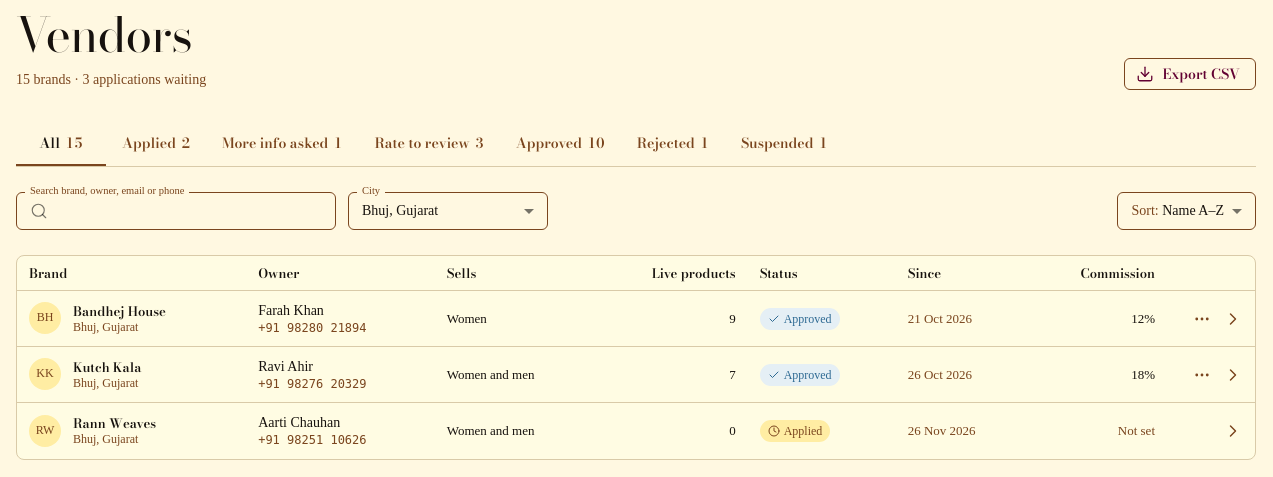
Test: A-08 Vendors › searches by owner after typing stops, and clears the search
Step 1. Type "aarti" into the field labelled "Search brand, owner, email or phone" → [196, 211], box [56, 192, 336, 230]
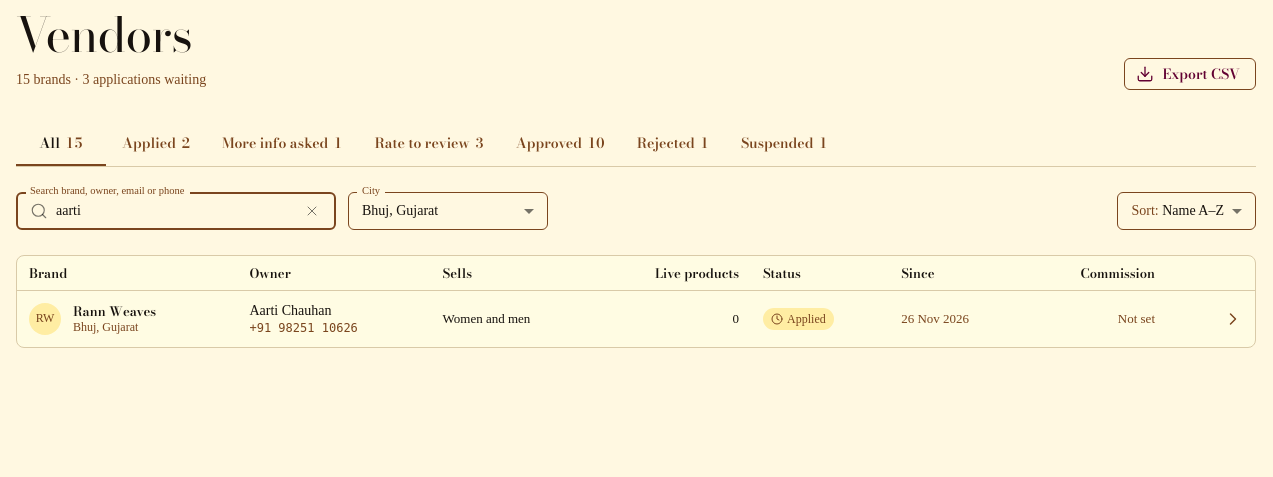
Step 2. Click the button named "Clear search" → [312, 211], box [299, 198, 325, 224]
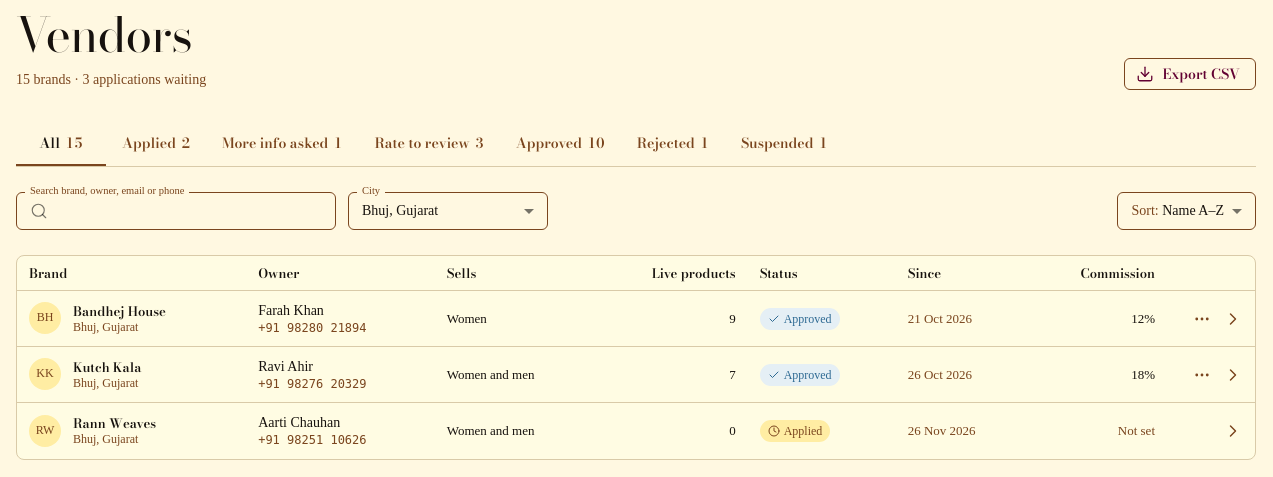
Expected: the dropdown labelled "Bhuj, Gujarat" is shown, [362, 203, 438, 218]
Now the field labelled "Search brand, owner, email or phone" is empty, box [56, 192, 336, 230]
